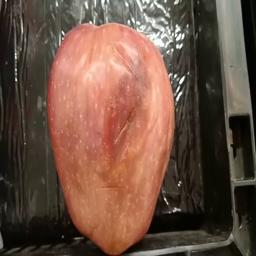Apple Semirotten: (43, 19, 180, 255)
